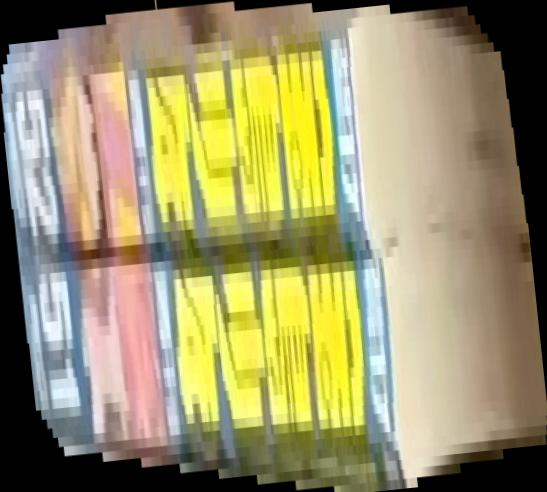flat: (1, 1, 547, 492)
